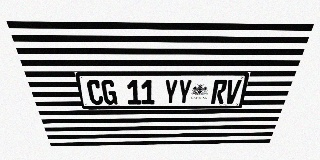1: (126, 80, 141, 104), (140, 80, 154, 104)
C: (86, 80, 104, 105)
G: (101, 80, 117, 105)
R: (211, 80, 228, 104)
V: (224, 79, 242, 104)
Y: (177, 80, 192, 104), (164, 80, 178, 104)
